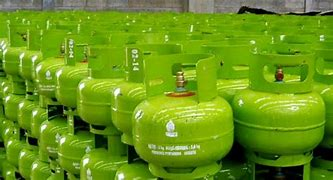gas_ijo: (132, 53, 234, 180), (234, 53, 326, 165), (112, 45, 186, 146), (78, 46, 133, 136), (55, 37, 97, 116), (2, 23, 36, 97), (36, 32, 68, 110), (81, 131, 129, 180), (20, 30, 50, 100), (58, 116, 95, 170), (39, 102, 74, 154), (20, 142, 64, 180), (18, 90, 49, 138), (2, 119, 27, 167), (1, 75, 27, 119)
